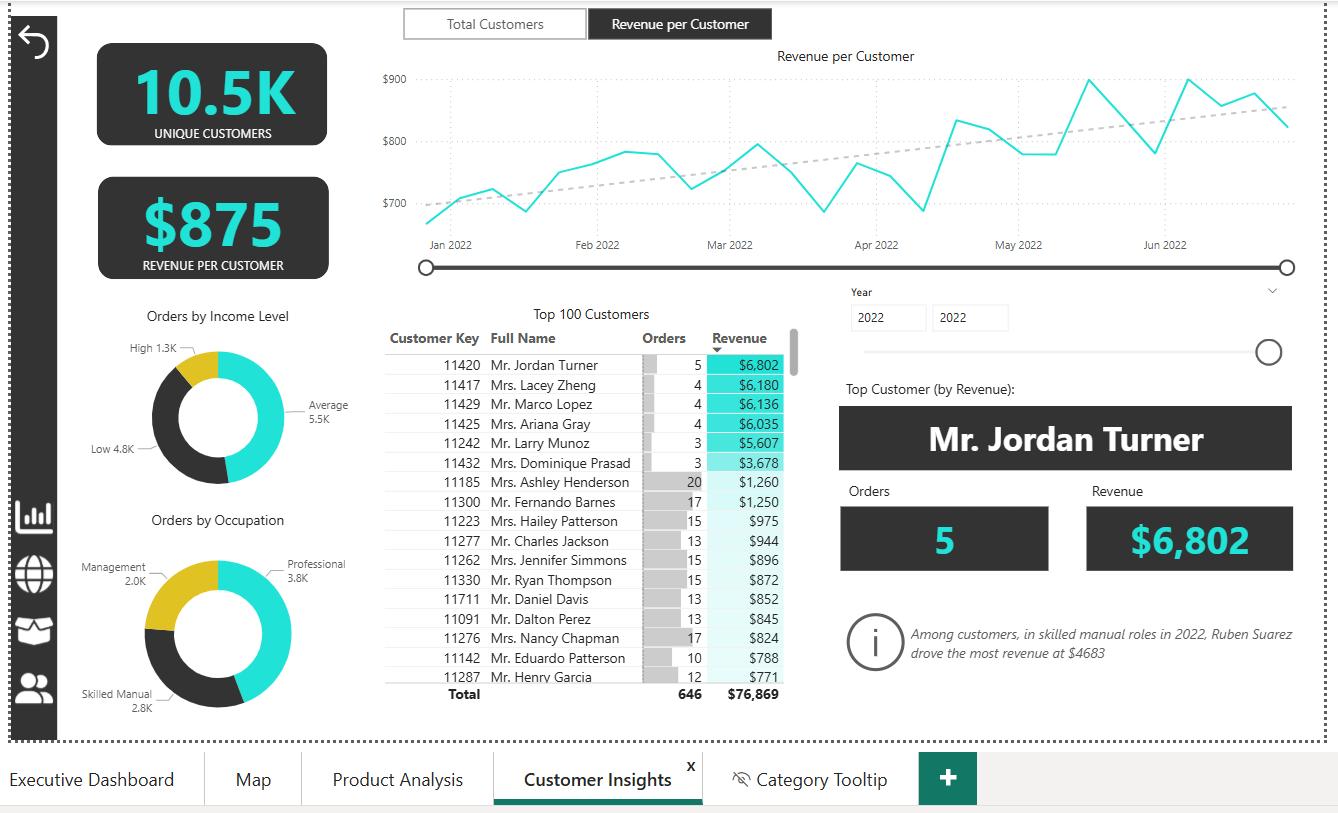

The page's visual inventory and layout, read from the dashboard file:
{"tool":"powerbi","page":{"name":"Customer Insights","canvas":[1280,720],"ordinal":3},"visuals":[{"type":"shape","box":[0,14,45,706],"z":0},{"type":"actionButton","box":[0,476.7,45,53.3],"z":0,"group":"g1"},{"type":"shape","box":[83.7,41.6,225,100],"z":1000},{"type":"actionButton","box":[0,532.3,45,53.3],"z":1000,"group":"g1"},{"type":"card","fields":{"Values":["Measure Table.Total Customers"]},"box":[68,15.7,255.8,150.6],"z":2000},{"type":"actionButton","box":[0,587.8,45,53.3],"z":2000,"group":"g1"},{"type":"shape","box":[85,171.5,225,100],"z":3000},{"type":"actionButton","box":[0,643.4,45,53.3],"z":3000,"group":"g1"},{"type":"card","fields":{"Values":["Measure Table.Total Revenue per Customer"]},"box":[69,145.3,255.8,150.6],"z":4000},{"type":"lineChart","fields":{"Y":["Measure Table.Total Revenue per Customer"],"Category":["Calendar Lookup.Date Hierarchy.Start of Year","Calendar Lookup.Date Hierarchy.Start of Month","Calendar Lookup.Date Hierarchy.Start of Week","Calendar Lookup.Date Hierarchy.Date"]},"box":[357.1,44.3,912.9,227.1],"z":5000},{"type":"donutChart","title":"Orders by Income Level","fields":{"Category":["Customer Lookup.Income Level"],"Y":["Measure Table.Total Orders"]},"box":[58,296,286,200],"z":6000},{"type":"donutChart","title":"Orders by Occupation ","fields":{"Y":["Measure Table.Total Orders"],"Category":["Customer Lookup.Occupation"]},"box":[58,496,286,224],"z":7000},{"type":"tableEx","title":"Top 100 Customers","fields":{"Values":["Customer Lookup.CustomerKey","Customer Lookup.Full Name ","Measure Table.Total Orders","Measure Table.Total Revenue"]},"box":[358.6,295.7,414.3,392.9],"z":8000},{"type":"card","fields":{"Values":["Customer Lookup.Full Name (Customer Detail)"]},"box":[806.2,394.3,441.4,62.9],"z":9000},{"type":"card","fields":{"Values":["Measure Table.Total Revenue (Customer Detail)"]},"box":[1048.1,492.4,201.4,62.9],"z":10000},{"type":"card","fields":{"Values":["Measure Table.Total Orders (Customer Detail)"]},"box":[807.6,492.9,202.9,62.9],"z":11000},{"type":"textbox","box":[807.6,362.9,190,31.4],"z":12000},{"type":"textbox","box":[811,461.9,190,31.4],"z":13000},{"type":"textbox","box":[1048.1,461.9,190,31.4],"z":14000},{"type":"slicer","fields":{"Values":["Calendar Lookup.Year"]},"box":[805.7,271.4,441.4,91.4],"z":15000},{"type":"actionButton","box":[807.1,588.6,462.9,71.4],"z":16000},{"type":"actionButton","box":[0,17.1,44.3,44.3],"z":17000},{"type":"group","id":"g1","title":"Navigation Buttons","box":[0,476.7,45,220],"z":18000},{"type":"slicer","fields":{"Values":["Customer Metric Selection .Customer Metric Selection "]},"box":[357.1,0,408.6,44.3],"z":18501}]}

Visuals, with their boxes on the page's 1280x720 design canvas (x1, y1, x2, y2). These are canvas units, not pixel positions in the 1338x813 screenshot, which may show the page scaled, cropped or inside an application window:
shape: pyautogui.locateOnScreen(0, 14, 45, 720)
actionButton: pyautogui.locateOnScreen(0, 477, 45, 530)
shape: pyautogui.locateOnScreen(84, 42, 309, 142)
actionButton: pyautogui.locateOnScreen(0, 532, 45, 586)
card - Measure Table.Total Customers: pyautogui.locateOnScreen(68, 16, 324, 166)
actionButton: pyautogui.locateOnScreen(0, 588, 45, 641)
shape: pyautogui.locateOnScreen(85, 172, 310, 272)
actionButton: pyautogui.locateOnScreen(0, 643, 45, 697)
card - Measure Table.Total Revenue per Customer: pyautogui.locateOnScreen(69, 145, 325, 296)
lineChart - Measure Table.Total Revenue per Customer x Calendar Lookup.Date Hierarchy.Start of Year: pyautogui.locateOnScreen(357, 44, 1270, 271)
"Orders by Income Level" donutChart: pyautogui.locateOnScreen(58, 296, 344, 496)
"Orders by Occupation " donutChart: pyautogui.locateOnScreen(58, 496, 344, 720)
"Top 100 Customers" tableEx: pyautogui.locateOnScreen(359, 296, 773, 689)
card - Customer Lookup.Full Name (Customer Detail): pyautogui.locateOnScreen(806, 394, 1248, 457)
card - Measure Table.Total Revenue (Customer Detail): pyautogui.locateOnScreen(1048, 492, 1250, 555)
card - Measure Table.Total Orders (Customer Detail): pyautogui.locateOnScreen(808, 493, 1010, 556)
textbox: pyautogui.locateOnScreen(808, 363, 998, 394)
textbox: pyautogui.locateOnScreen(811, 462, 1001, 493)
textbox: pyautogui.locateOnScreen(1048, 462, 1238, 493)
slicer - Calendar Lookup.Year: pyautogui.locateOnScreen(806, 271, 1247, 363)
actionButton: pyautogui.locateOnScreen(807, 589, 1270, 660)
actionButton: pyautogui.locateOnScreen(0, 17, 44, 61)
"Navigation Buttons" group: pyautogui.locateOnScreen(0, 477, 45, 697)
slicer - Customer Metric Selection .Customer Metric Selection : pyautogui.locateOnScreen(357, 0, 766, 44)
